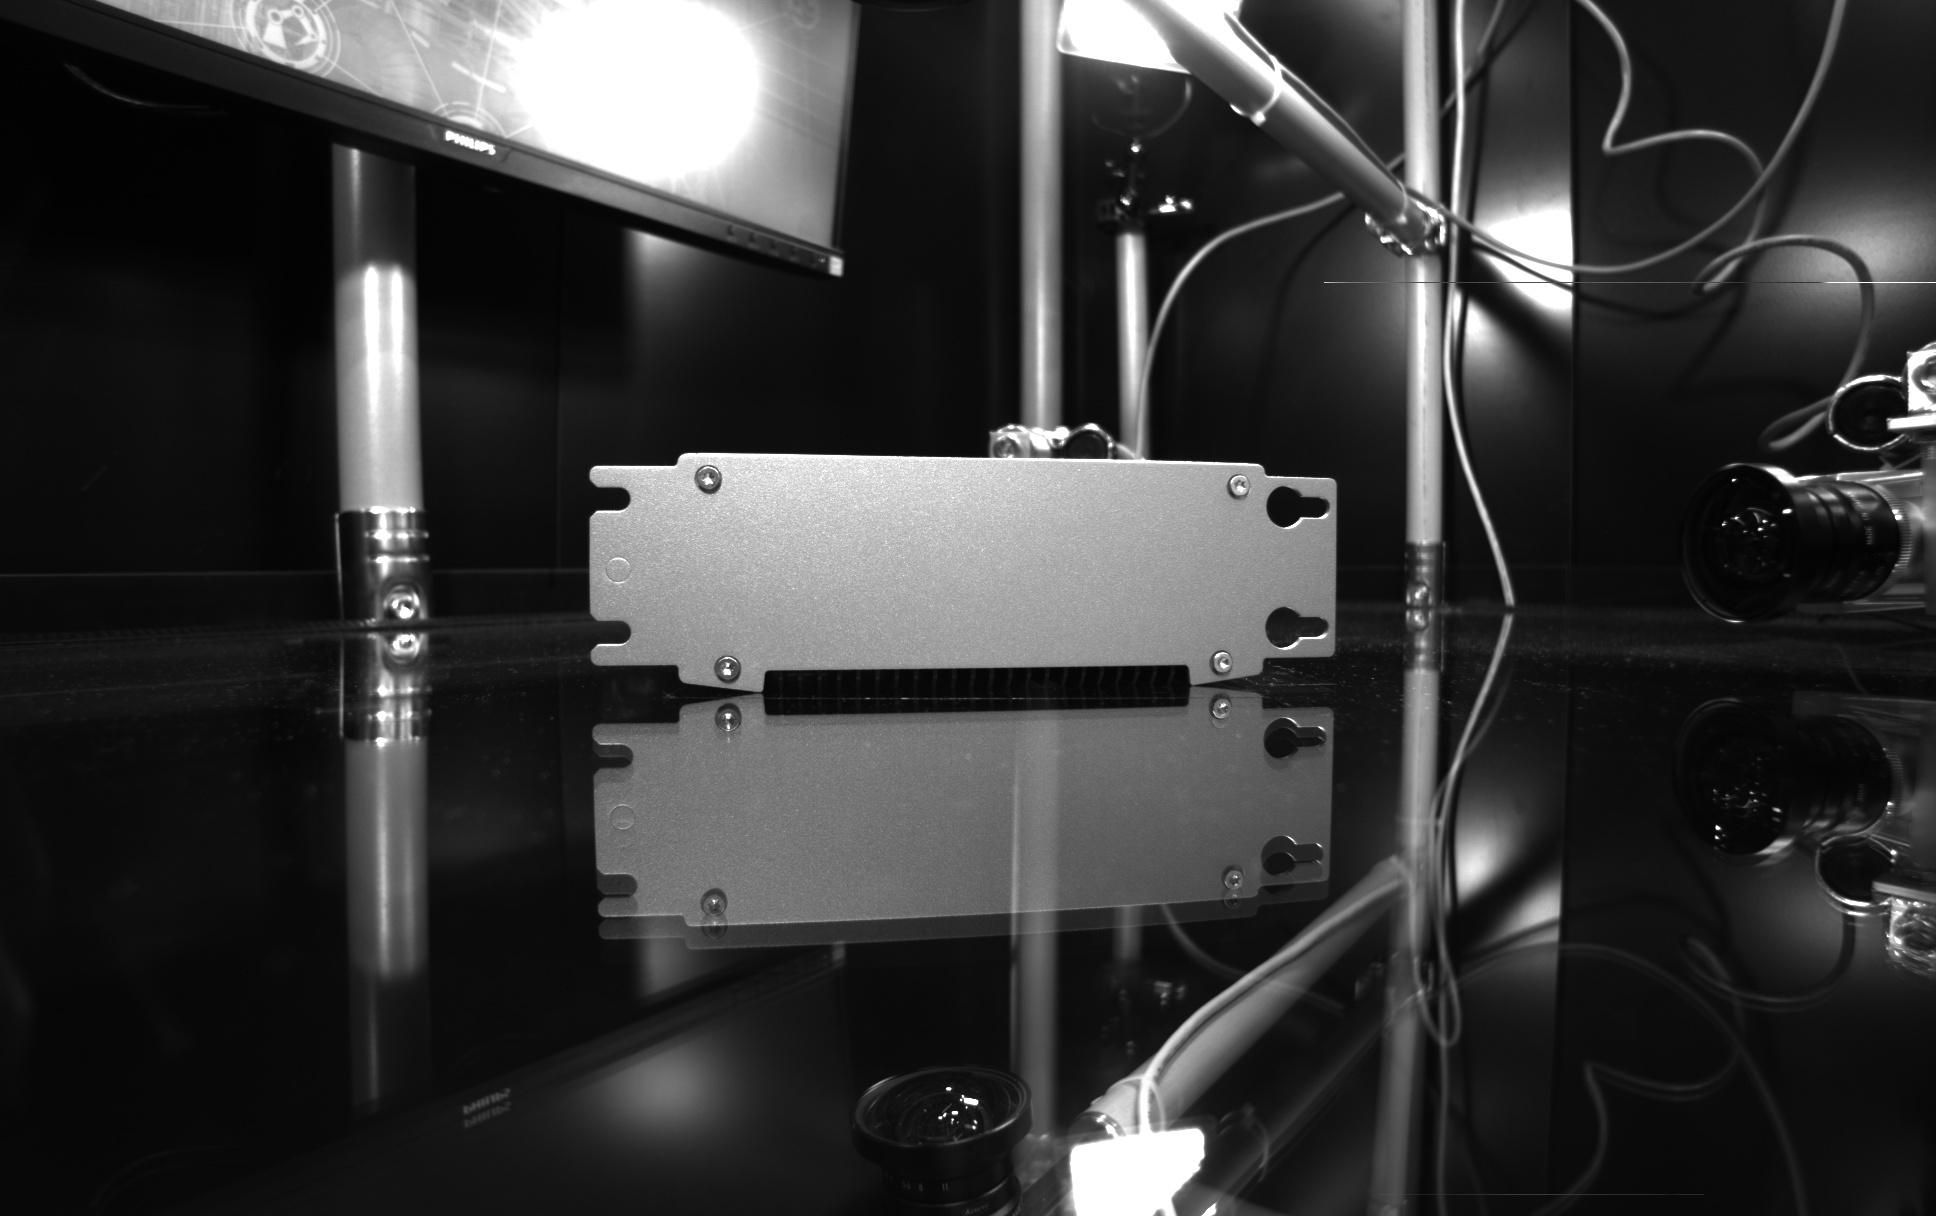CamBack: (558, 429, 1363, 691)
Schraube_gespiegelt: (707, 700, 752, 758), (695, 881, 733, 948), (1215, 859, 1252, 923), (1201, 691, 1243, 740)
Schraube_halb: (707, 644, 748, 688), (1202, 637, 1238, 681), (691, 460, 728, 500), (1220, 468, 1259, 504)
